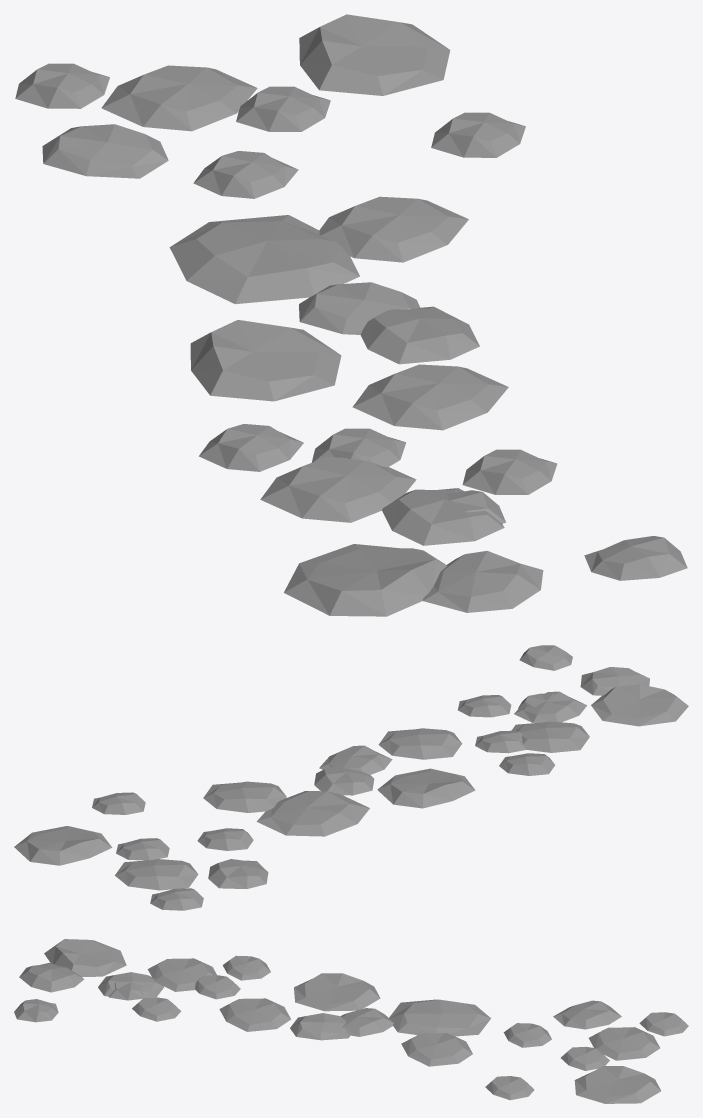
The model's file is Track.fbx.
3 renders of one model, top to bottom at view 1: azimuth 30°, elevation 25°; view 2: azimuth 150°, elevation 25°; view 3: azimuth 270°, elevation 25°, orthographic. The views are drawn at different scales.
Visible parts, largest first — view 1: Track; view 2: Track; view 3: Track.
Boxes of the visible parts, left/top/right/bottom form: Track: left=15, top=14, right=687, bottom=616; Track: left=14, top=645, right=688, bottom=910; Track: left=14, top=939, right=688, bottom=1103.
Bounding box in the file's own units: 214 × 368 × 8.16.
